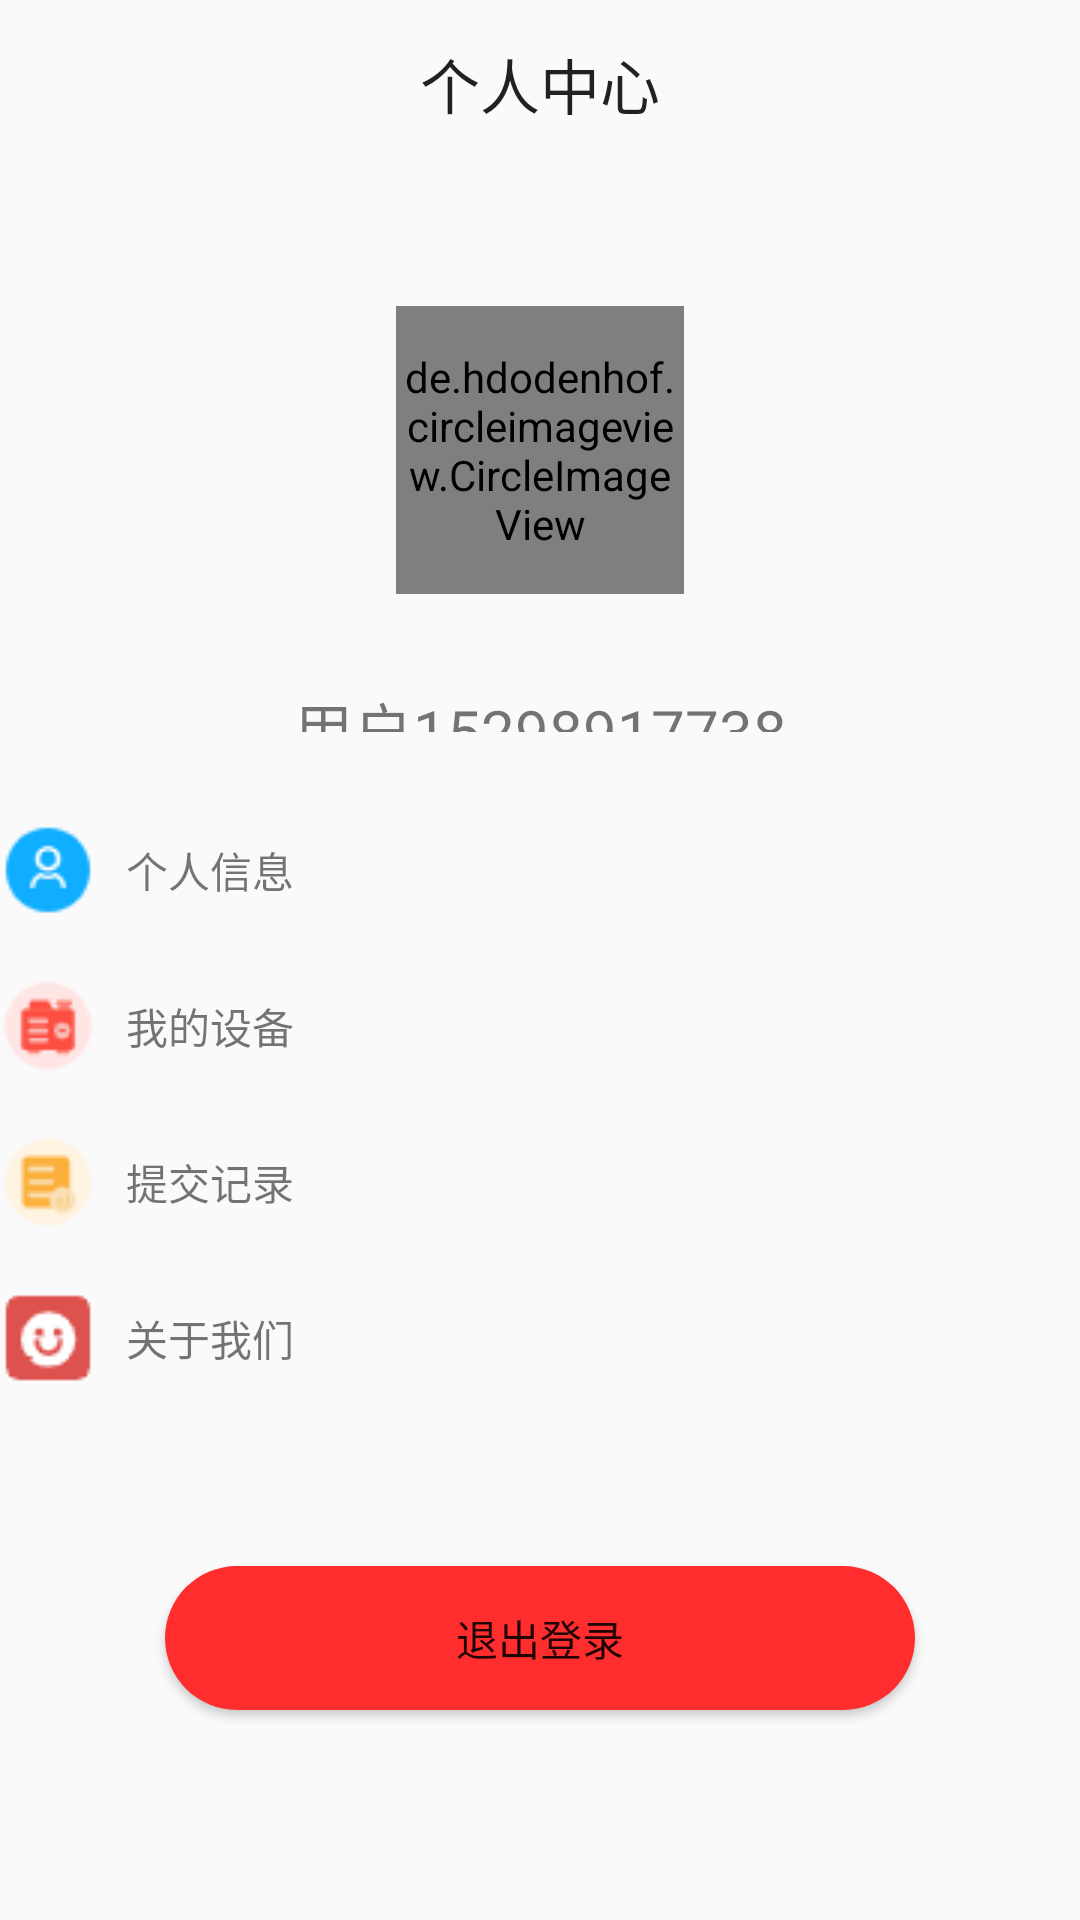

Locate icon controls on the screen. Image size 1080x1920, boxes as (x1, y1, x2, y2).
about: (5, 1295, 91, 1381)
history: (20, 1154, 79, 1216)
user: (5, 827, 91, 913)
